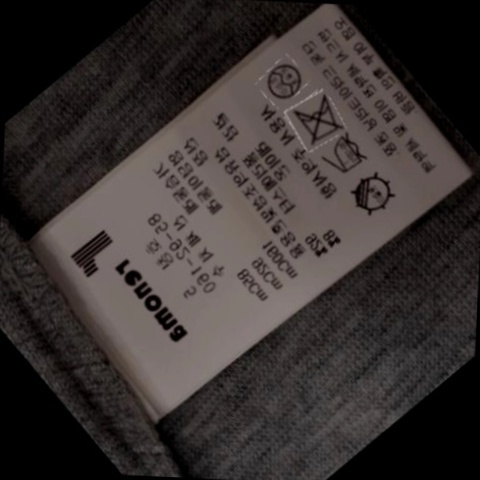DN_wash: (289, 97, 342, 142)
dry_clean_petrol_only: (262, 59, 303, 100)
iron_low: (322, 136, 369, 176)
line_dry_in_shade: (344, 174, 395, 215)
